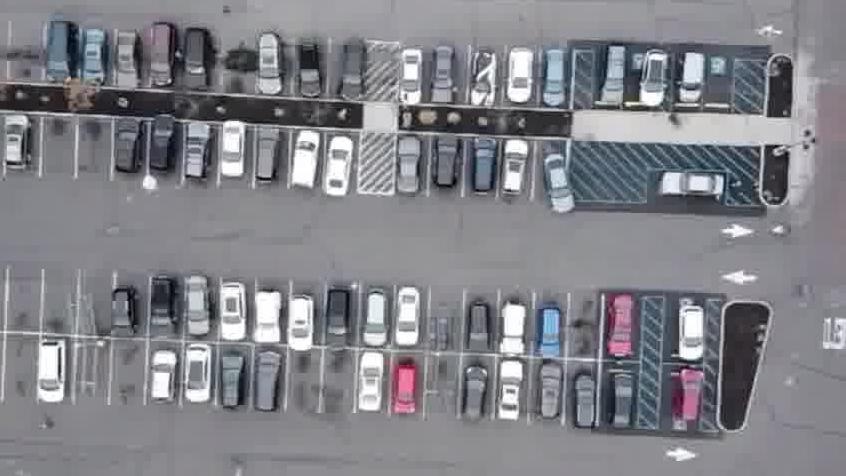car: (351, 349, 389, 416), (31, 337, 66, 407), (39, 18, 75, 83), (176, 26, 211, 91), (318, 133, 353, 198), (653, 167, 724, 199), (142, 20, 173, 89), (107, 117, 143, 176), (493, 361, 526, 425), (249, 351, 281, 417), (177, 345, 211, 407), (497, 136, 530, 199), (143, 113, 176, 176), (213, 350, 245, 413), (321, 288, 352, 353), (335, 37, 366, 101), (285, 131, 318, 191), (283, 294, 317, 352), (145, 276, 176, 339), (143, 346, 174, 409), (249, 127, 281, 188), (605, 292, 635, 357), (545, 152, 574, 217), (391, 283, 420, 348), (253, 29, 281, 96), (458, 361, 489, 421), (389, 360, 420, 420), (605, 365, 634, 429), (251, 288, 283, 346), (635, 49, 668, 105), (357, 285, 385, 351), (215, 282, 245, 343), (392, 135, 421, 197), (430, 133, 460, 192), (465, 136, 494, 197), (495, 298, 526, 355), (503, 45, 532, 105), (426, 43, 455, 103), (569, 368, 597, 430), (181, 121, 210, 180), (672, 365, 701, 424), (595, 43, 624, 101), (76, 27, 105, 85), (0, 113, 29, 171), (108, 285, 138, 341), (676, 303, 704, 362), (537, 46, 564, 107), (295, 35, 321, 98), (394, 45, 421, 105), (181, 273, 206, 337), (468, 48, 496, 105), (535, 361, 562, 420), (218, 120, 244, 181), (673, 50, 702, 103), (533, 304, 562, 357), (111, 29, 136, 90), (465, 302, 489, 355)
